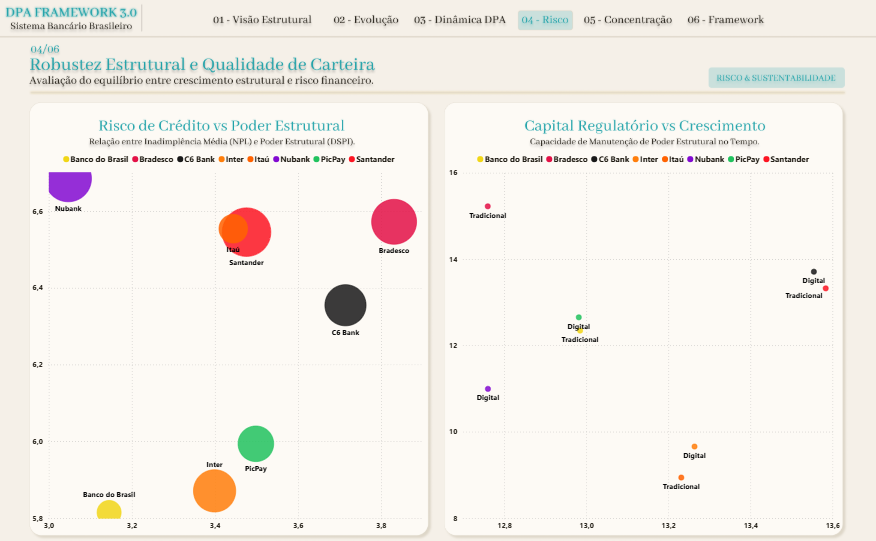

Layout of this report page (visuals, bound fields, positions):
{"tool":"powerbi","page":{"name":"Risco","canvas":[1460,909],"ordinal":3},"visuals":[{"type":"scatterChart","fields":{"X":["fato_financeiro_v2.NPL Médio"],"Y":["fato_financeiro_v2.DSPI"],"Size":["fato_financeiro_v2.Credito Total"],"Category":["dim_banco_v2.nome_banco"],"Series":["dim_banco_v2.nome_banco"]},"box":[48.8,246.2,670,648.8],"z":0},{"type":"scatterChart","fields":{"X":["fato_financeiro_v2.Basileia Média"],"Y":["fato_financeiro_v2.Crescimento Receita %"],"Series":["dim_banco_v2.nome_banco"],"Category":["dim_banco_v2.tipo_banco"]},"box":[743.8,246.2,661.2,648.8],"z":1000},{"type":"pageNavigator","box":[342.5,12.5,933.8,48.8],"z":2000}]}

Visuals, with their boxes in screenshot pixels (x1, y1, x2, y2), scaled from the page's 1460x909 canvas onto the 876x541 screenshot:
scatterChart - fato_financeiro_v2.NPL Médio x fato_financeiro_v2.DSPI: select_region(29, 147, 431, 533)
scatterChart - fato_financeiro_v2.Basileia Média x fato_financeiro_v2.Crescimento Receita %: select_region(446, 147, 843, 533)
pageNavigator: select_region(206, 7, 766, 36)
